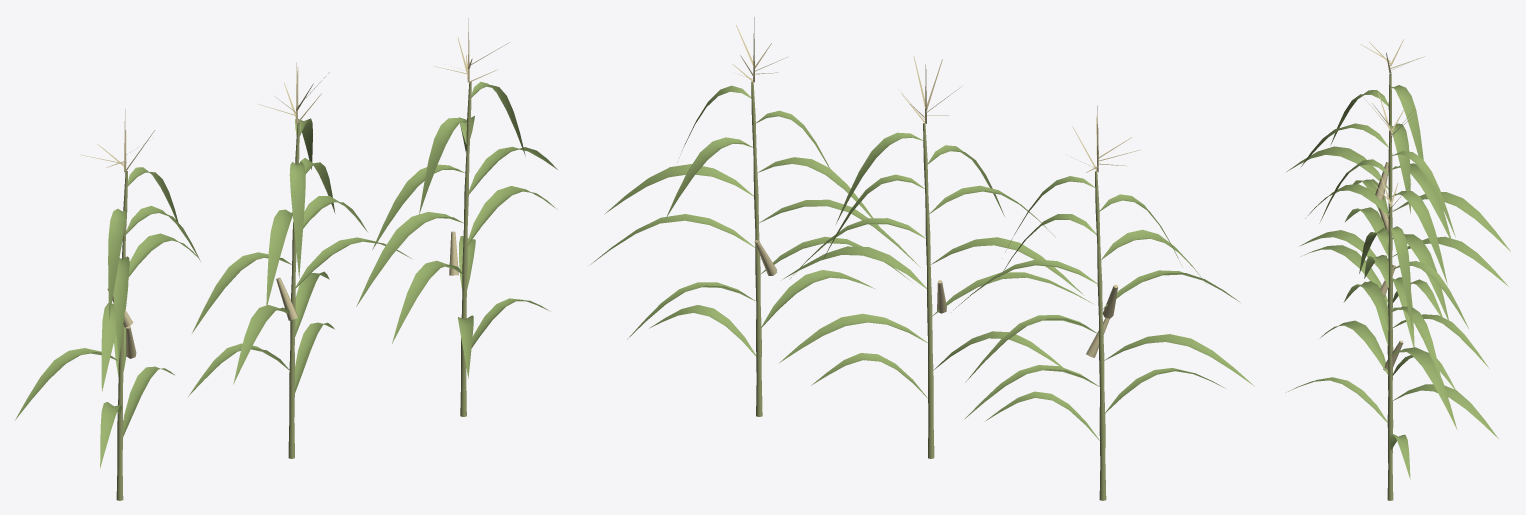
Rendered from corn.glb.
The picture shows the model from 3 angles, left to right: view 1: azimuth 30°, elevation 25°; view 2: azimuth 150°, elevation 25°; view 3: azimuth 270°, elevation 25°; orthographic projection. The views are drawn at different scales.
Visible parts, largest first — view 1: corn_1_lod0, corn_2_lod0, corn_0_lod0; view 2: corn_1_lod0, corn_2_lod0, corn_0_lod0; view 3: corn_2_lod0, corn_0_lod0, corn_1_lod0.
Part boxes in pixels (x1,y1,x2,y2): corn_1_lod0: (188,62,411,458); corn_2_lod0: (356,18,557,416); corn_0_lod0: (15,109,200,500); corn_1_lod0: (779,56,1092,458); corn_2_lod0: (590,17,920,416); corn_0_lod0: (953,105,1254,500); corn_2_lod0: (1286,176,1498,500); corn_0_lod0: (1287,39,1510,354); corn_1_lod0: (1301,93,1489,427).
Size of what is drawn, in the model's own units: 3.53 by 2.23 by 1.32.
